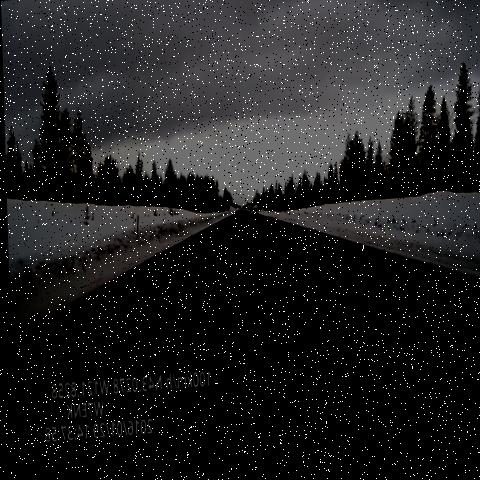pothole: (153, 302, 174, 318), (215, 229, 229, 250)
